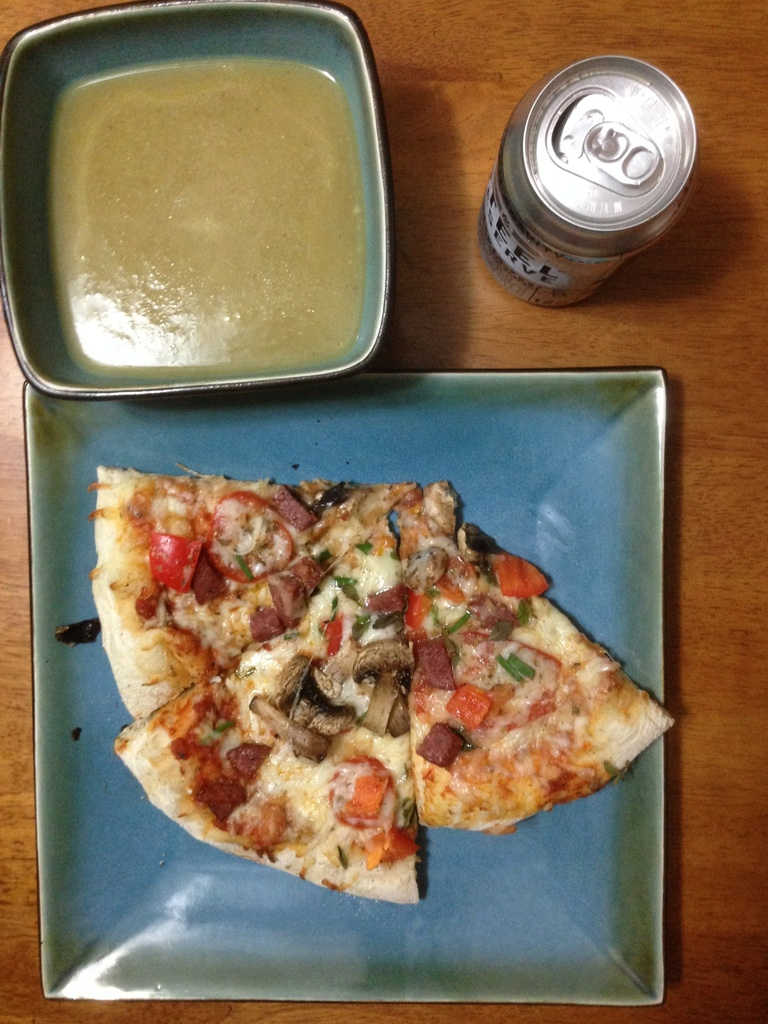Pizza: (105, 514, 429, 906), (404, 478, 673, 837), (84, 462, 411, 721)
